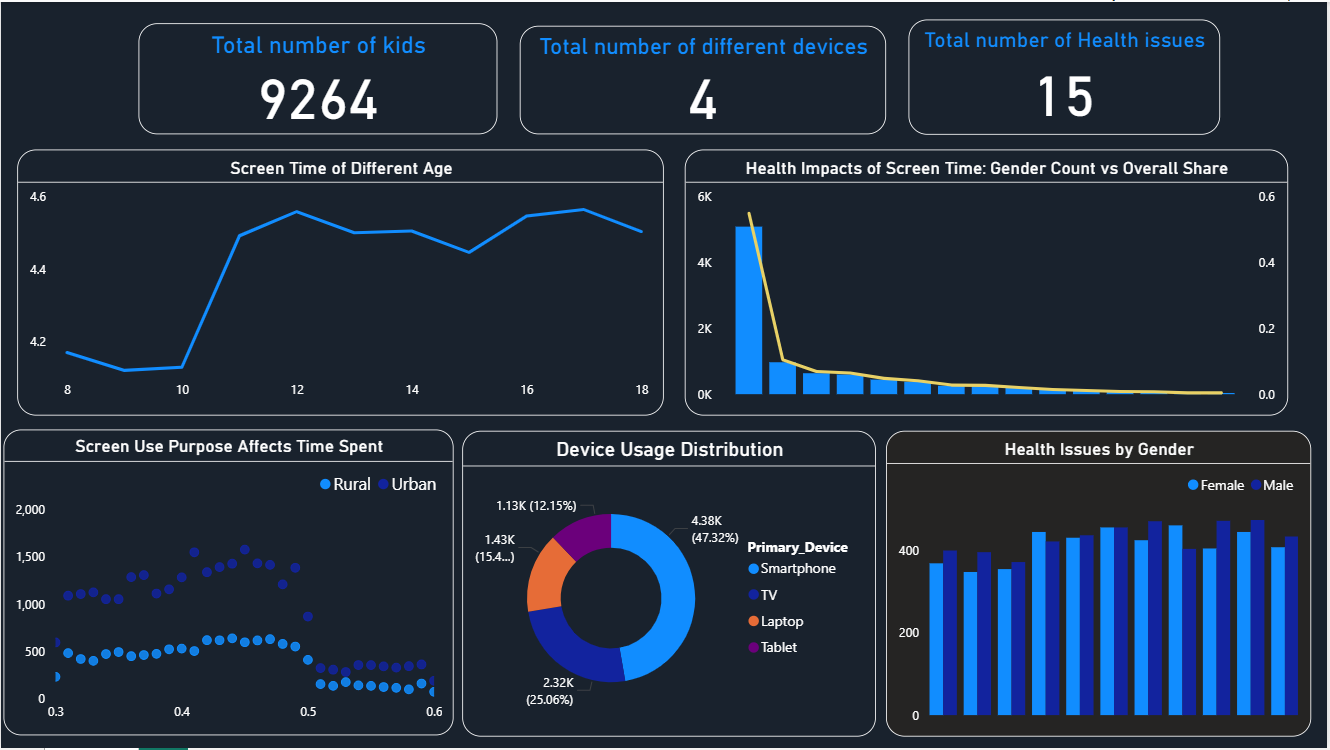

The page's visual inventory and layout, read from the dashboard file:
{"tool":"powerbi","page":{"name":"Page 1","canvas":[1280,720],"ordinal":0},"visuals":[{"type":"donutChart","title":"Device Usage Distribution","fields":{"Category":["cleaned_dataset (2).Primary_Device"],"Y":["CountNonNull(cleaned_dataset (2).Gender_binary)"]},"box":[445.3,413.8,399.3,295.3],"z":0},{"type":"scatterChart","title":"Screen Use Purpose Affects Time Spent","fields":{"X":["cleaned_dataset (2).Educational_to_Recreational_Ratio"],"Y":["Sum(cleaned_dataset (2).Avg_Daily_Screen_Time_hr)"],"Series":["cleaned_dataset (2).Urban_or_Rural"]},"box":[2.4,412.6,434.4,295.3],"z":1000},{"type":"clusteredColumnChart","title":"Health Issues by Gender","fields":{"Y":["CountNonNull(cleaned_dataset (2).Health_Impacts)"],"Category":["cleaned_dataset (2).Age"],"Series":["cleaned_dataset (2).Gender"]},"box":[854.2,413.8,410.2,295.6],"z":2000},{"type":"lineChart","title":"Screen Time of Different Age","fields":{"Category":["cleaned_dataset (2).Age"],"Y":["Avg(cleaned_dataset (2).Avg_Daily_Screen_Time_hr)"]},"box":[15.7,142.8,624.4,256.5],"z":3000},{"type":"lineClusteredColumnComboChart","title":"Health Impacts of Screen Time: Gender Count vs Overall Share","fields":{"Category":["cleaned_dataset (2).Health_Impacts"],"Y":["CountNonNull(cleaned_dataset (2).Gender)"],"Y2":["cleaned_dataset (2).% by Health Impact"]},"box":[659.5,142.8,582,256.5],"z":4000},{"type":"card","title":"Total number of kids","fields":{"Values":["CountNonNull(cleaned_dataset (2).Gender)"]},"box":[132.7,20.5,346.2,107.4],"z":5000},{"type":"card","title":"Total number of different devices","fields":{"Values":["Count(cleaned_dataset (2).Primary_Device)"]},"box":[500.7,22.9,353.5,105],"z":6000},{"type":"card","title":"Total number of Health issues","fields":{"Values":["Count(cleaned_dataset (2).Health_Impacts)"]},"box":[875.9,16.9,300.4,111],"z":7000}]}

Visuals, with their boxes in screenshot pixels (x1, y1, x2, y2), scaled from the page's 1280x720 canvas onto the 1330x750 screenshot:
"Device Usage Distribution" donutChart: <box>463,431,878,739</box>
"Screen Use Purpose Affects Time Spent" scatterChart: <box>2,430,454,737</box>
"Health Issues by Gender" clusteredColumnChart: <box>888,431,1314,739</box>
"Screen Time of Different Age" lineChart: <box>16,149,665,416</box>
"Health Impacts of Screen Time: Gender Count vs Overall Share" lineClusteredColumnComboChart: <box>685,149,1290,416</box>
"Total number of kids" card: <box>138,21,498,133</box>
"Total number of different devices" card: <box>520,24,888,133</box>
"Total number of Health issues" card: <box>910,18,1222,133</box>
